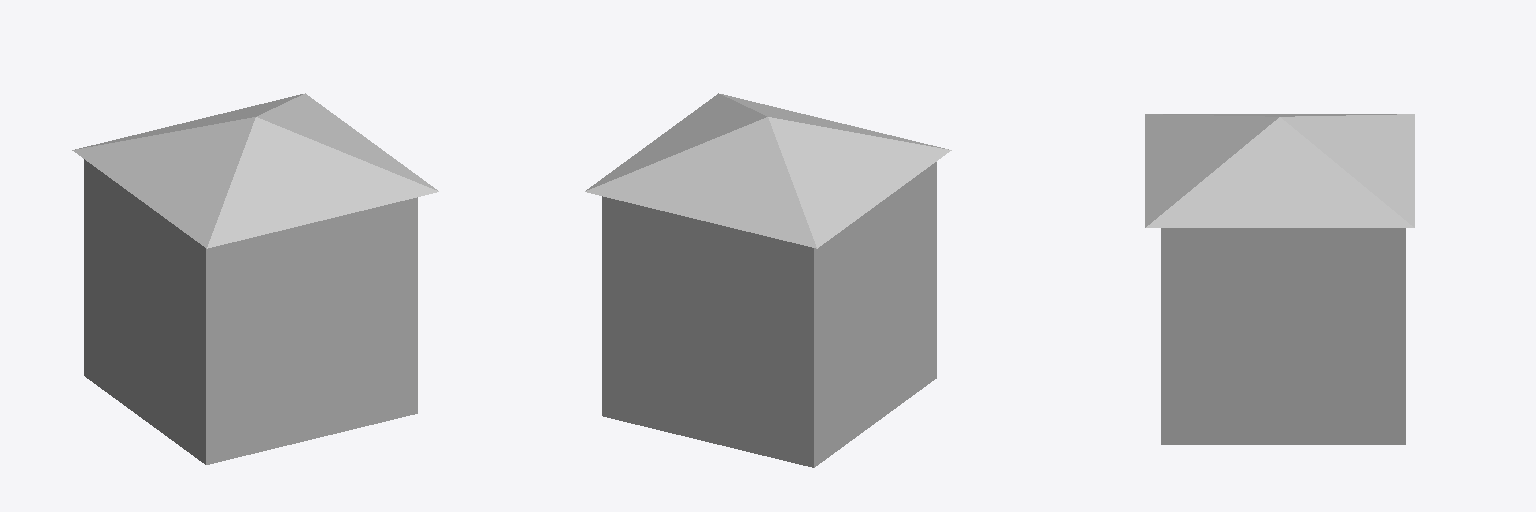
Rendered from house1.obj.
The picture shows the model from 3 angles: view 1: azimuth 30°, elevation 25°; view 2: azimuth 150°, elevation 25°; view 3: azimuth 270°, elevation 25°; orthographic projection.
Visible parts, largest first — view 1: Cube_Cube.001; view 2: Cube_Cube.001; view 3: Cube_Cube.001.
Boxes of the visible parts, <box> form: Cube_Cube.001: <box>72,93,438,464</box>; Cube_Cube.001: <box>585,93,951,467</box>; Cube_Cube.001: <box>1145,114,1414,444</box>.
Bounding box in the file's own units: 6.35 × 7.25 × 6.35.